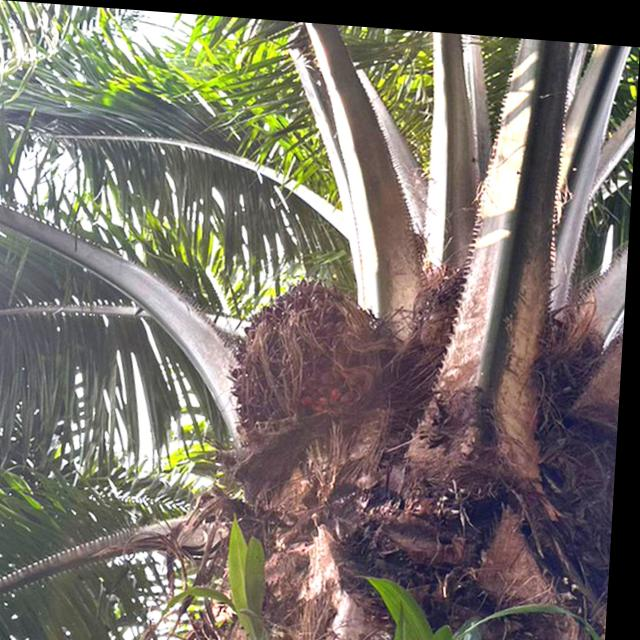ripe: (220, 256, 401, 458)
